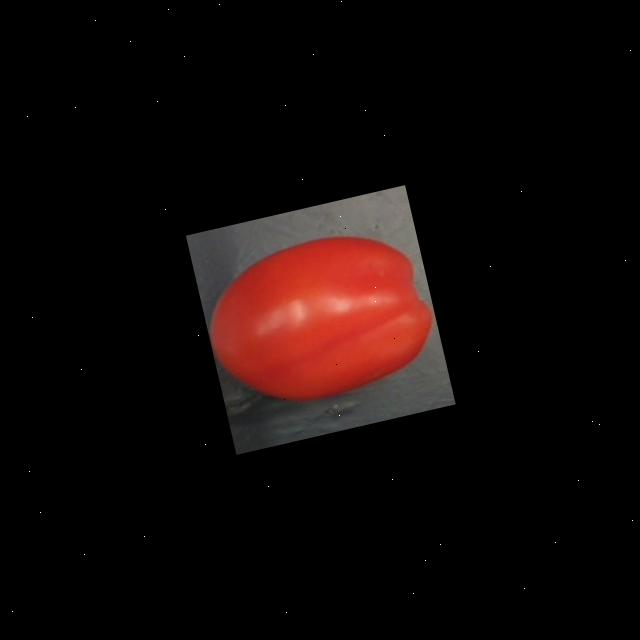tomato: (191, 209, 448, 425)
